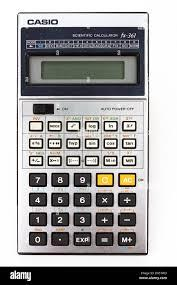Calculator: (9, 9, 156, 258)
